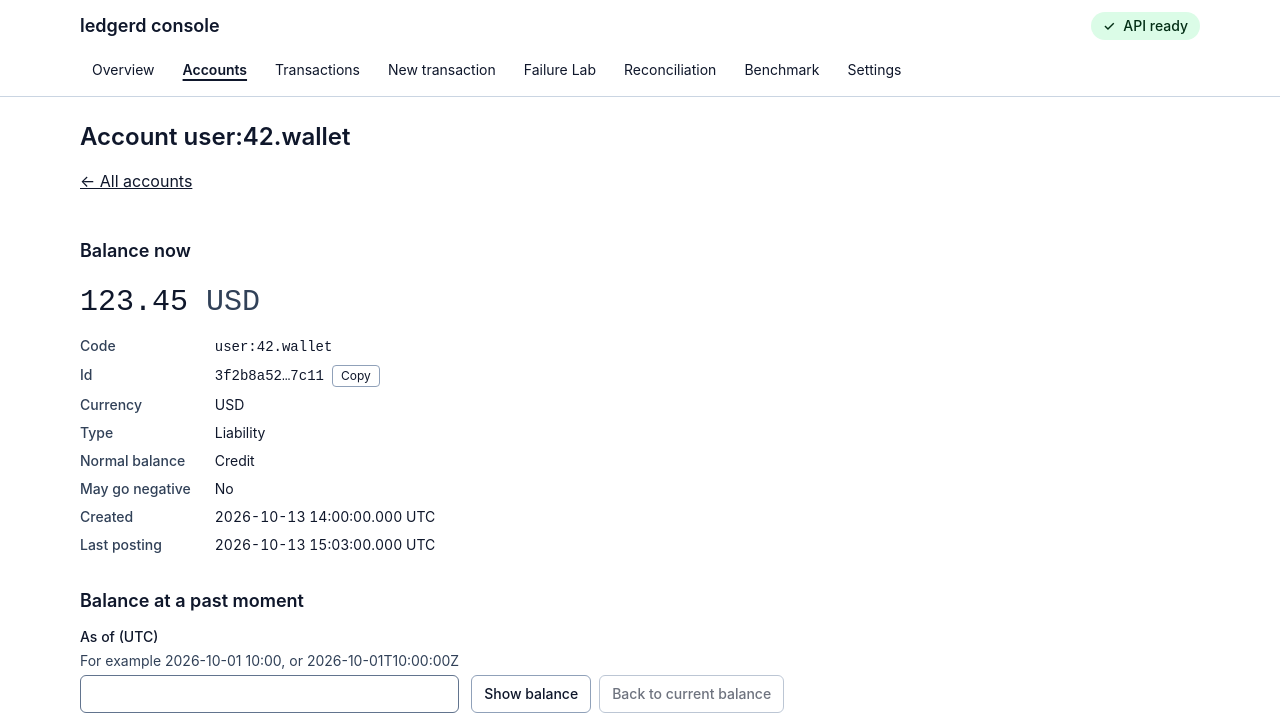
Test: the balance at a past moment (R4.3) › converts another zone to UTC
The width and height of the screenshot is (1280, 716).
Expected: the heading "Account user:42.wallet" is shown, [80,121,350,153]
Expected: the element "Balance now" is shown, [80,240,625,553]
In the field labelled "As of (UTC)": (270, 694) [80,675,459,713], type "2026-10-13 17:02:30+02:00"
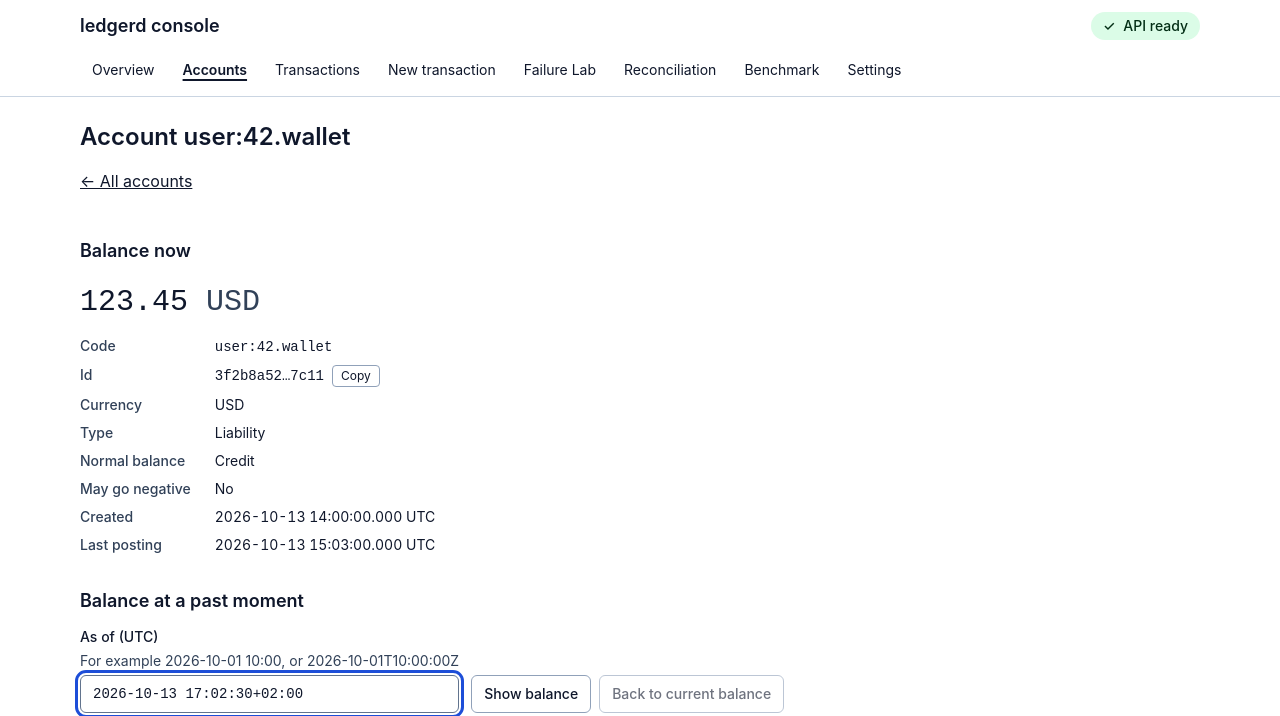
Click the button "Show balance": (531, 694) [471,675,591,713]
(page scrolled)
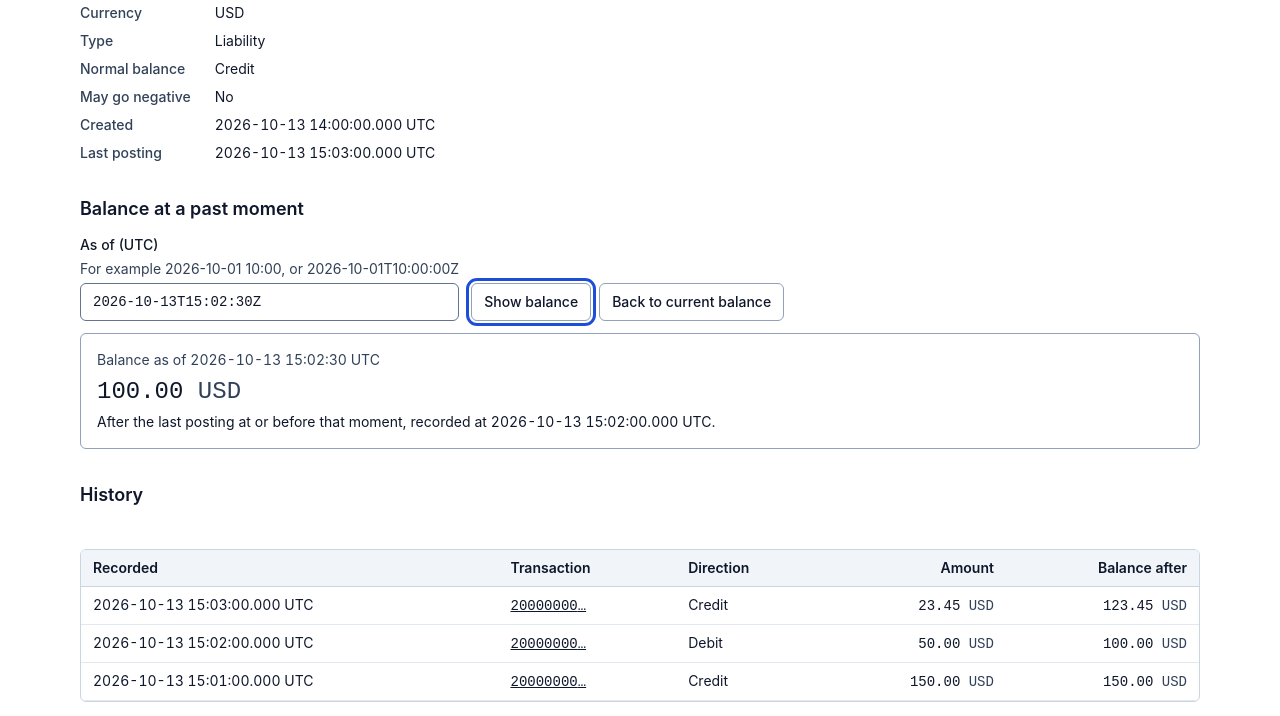
Expected: the text "Balance as of 2026-10-13 15:02:30 UTC" is shown, [97,351,380,368]
